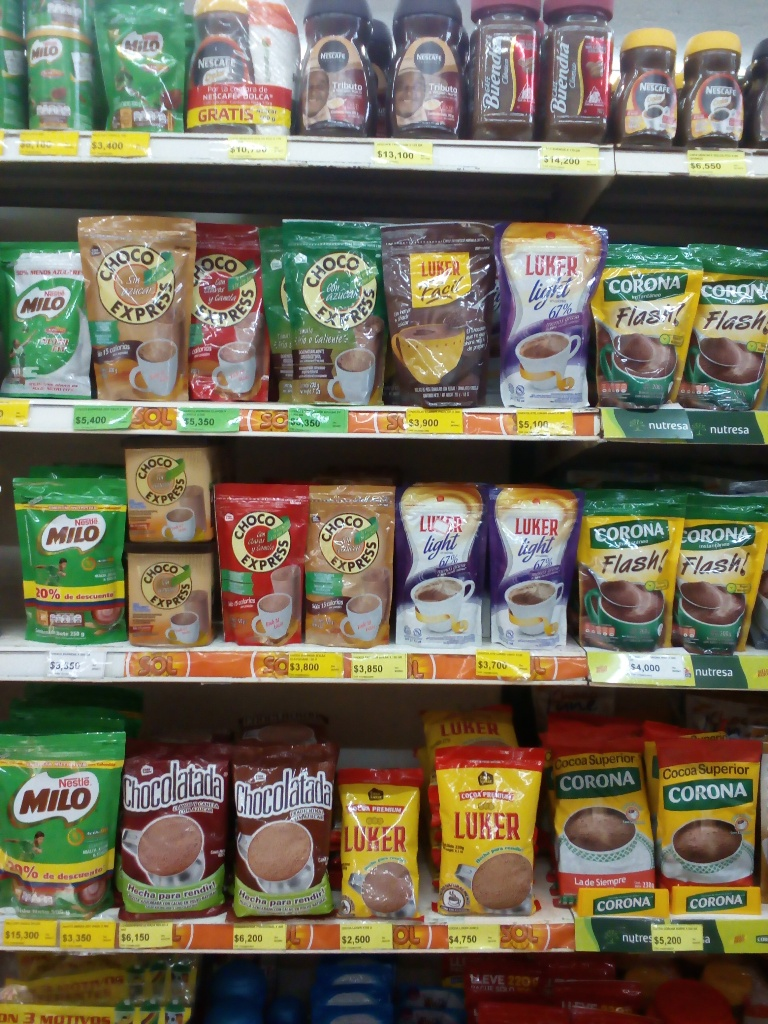COL0170203DYP10000: (93, 4, 189, 131)
COL0170203DYP25000: (11, 474, 129, 645)
COL0170203DYP50000: (0, 728, 133, 920)
COL0170203LAT20000: (28, 31, 96, 138)
COL0170205DYP20000: (3, 239, 99, 400)
